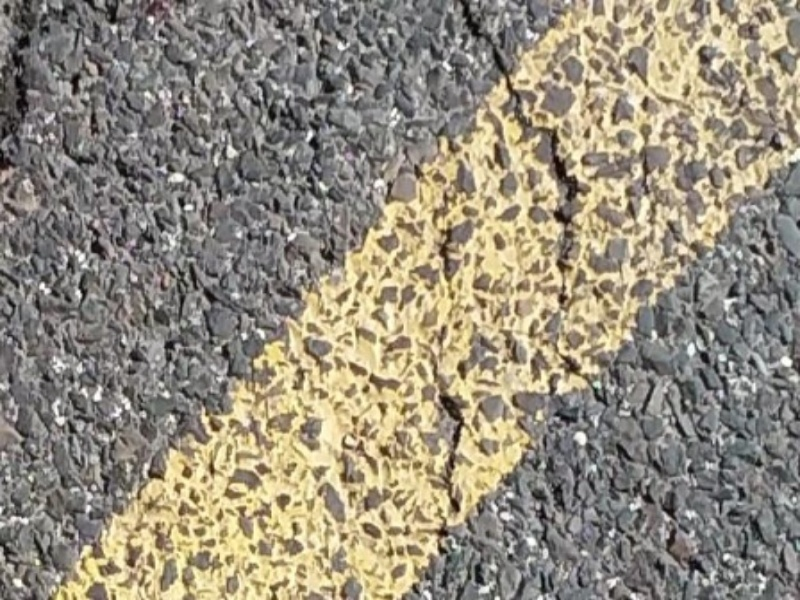crack: (455, 6, 581, 305), (421, 385, 483, 521)
